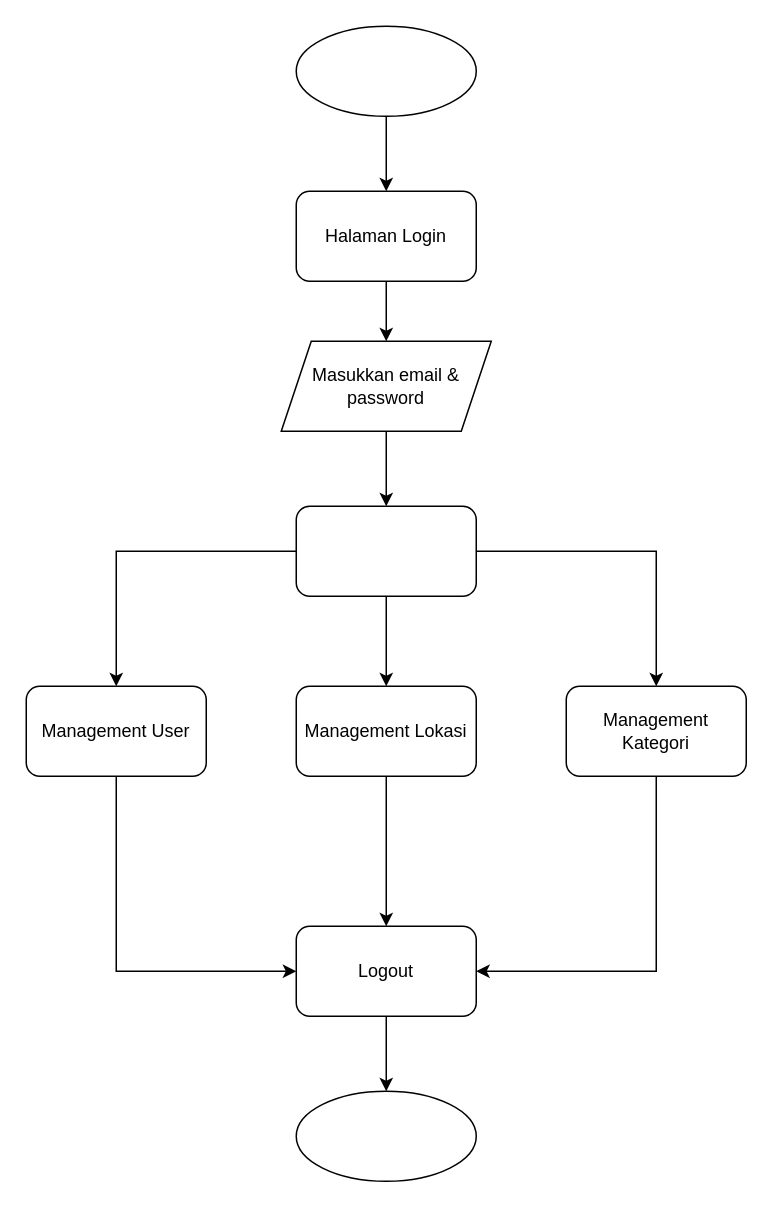
This 773x1208 diagram has some shape labels left out. Here are the shapes that lost their labels. From the top down, the centre of each, then its label:
the point at 385,70: Mulai
the point at 385,550: Halaman Beranda
the point at 385,1135: Berhenti
